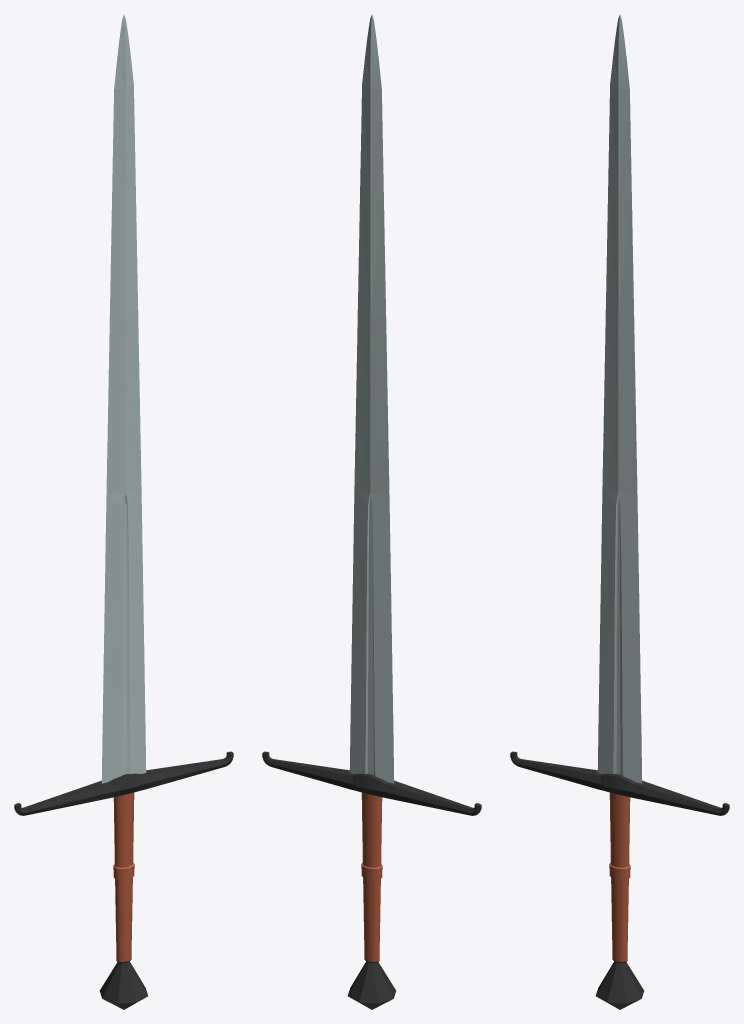
The model's file is LongSword.glb.
The picture shows the model from 3 angles, left to right: view 1: azimuth 30°, elevation 25°; view 2: azimuth 150°, elevation 25°; view 3: azimuth 330°, elevation 25°; orthographic projection.
Parts seen in each view (by area): view 1: Long Sword; view 2: Long Sword; view 3: Long Sword.
Boxes of the visible parts, bbox=[...] form: Long Sword: bbox=[14, 14, 233, 1009]; Long Sword: bbox=[262, 14, 481, 1009]; Long Sword: bbox=[510, 14, 729, 1009].
Size of the model in its own units: 0.2953 by 1.29 by 0.0593.
1 material, 1 textured.
